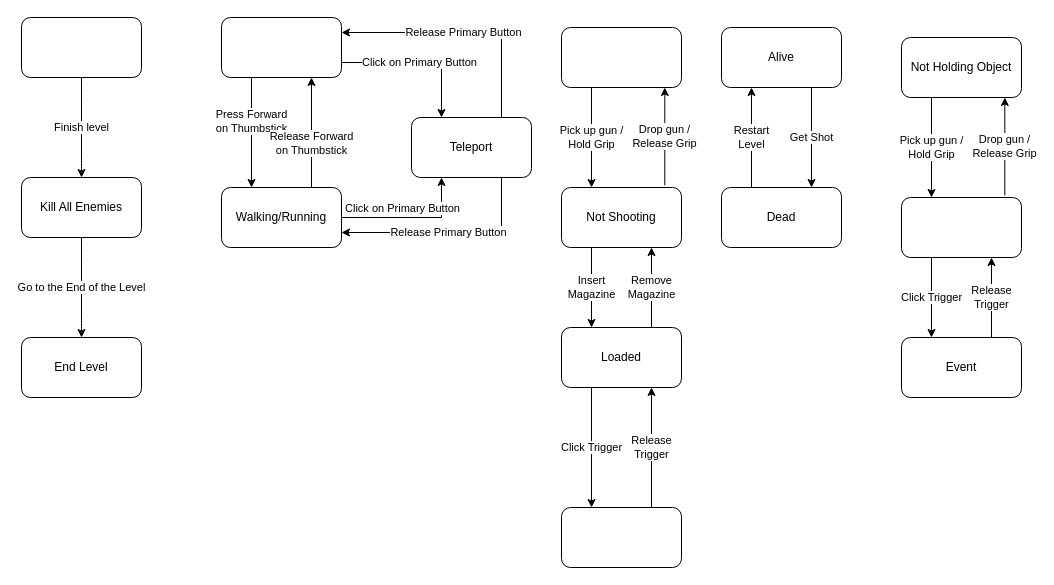
This 1054x585 diagram has some shape labels left out. The centre of each missing label's shape, as x and y in pixels:
Holding Object: (961,227)
Not Having gun: (621,57)
Shooting: (621,537)
Standing: (281,47)
Start Level: (81,47)
